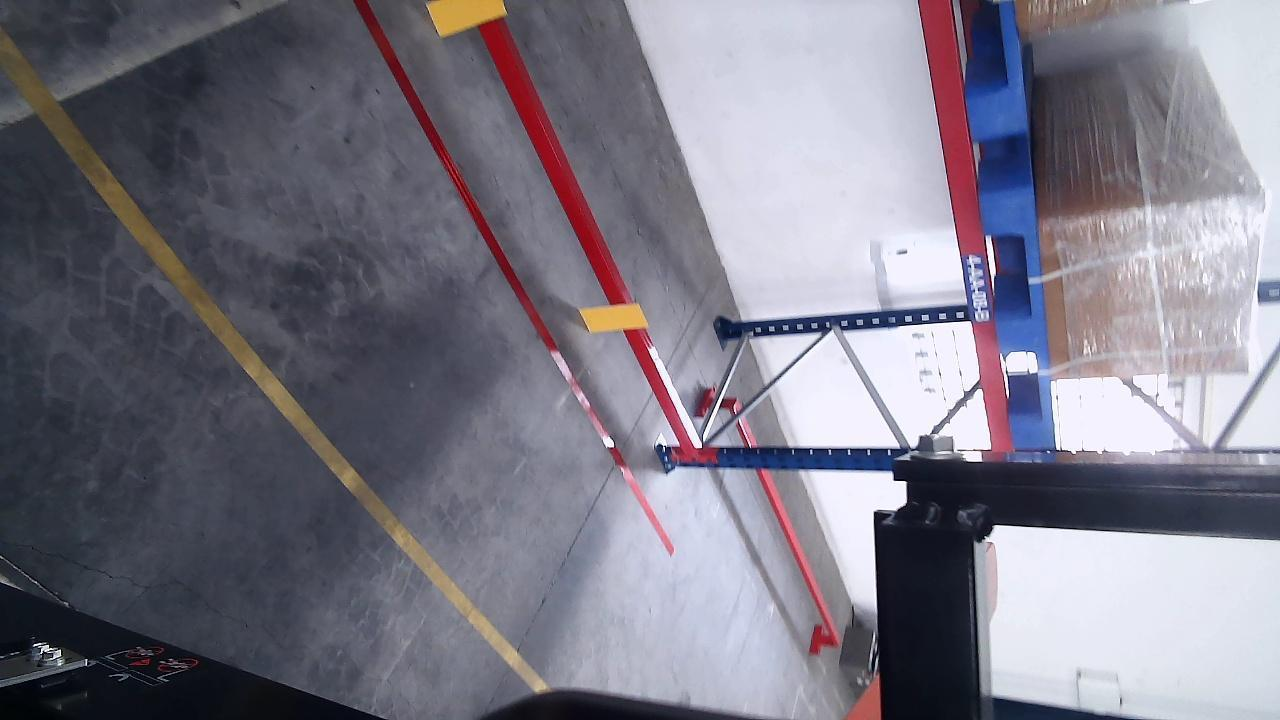red_line: (351, 0, 674, 556)
yellow_line: (0, 16, 550, 693)
